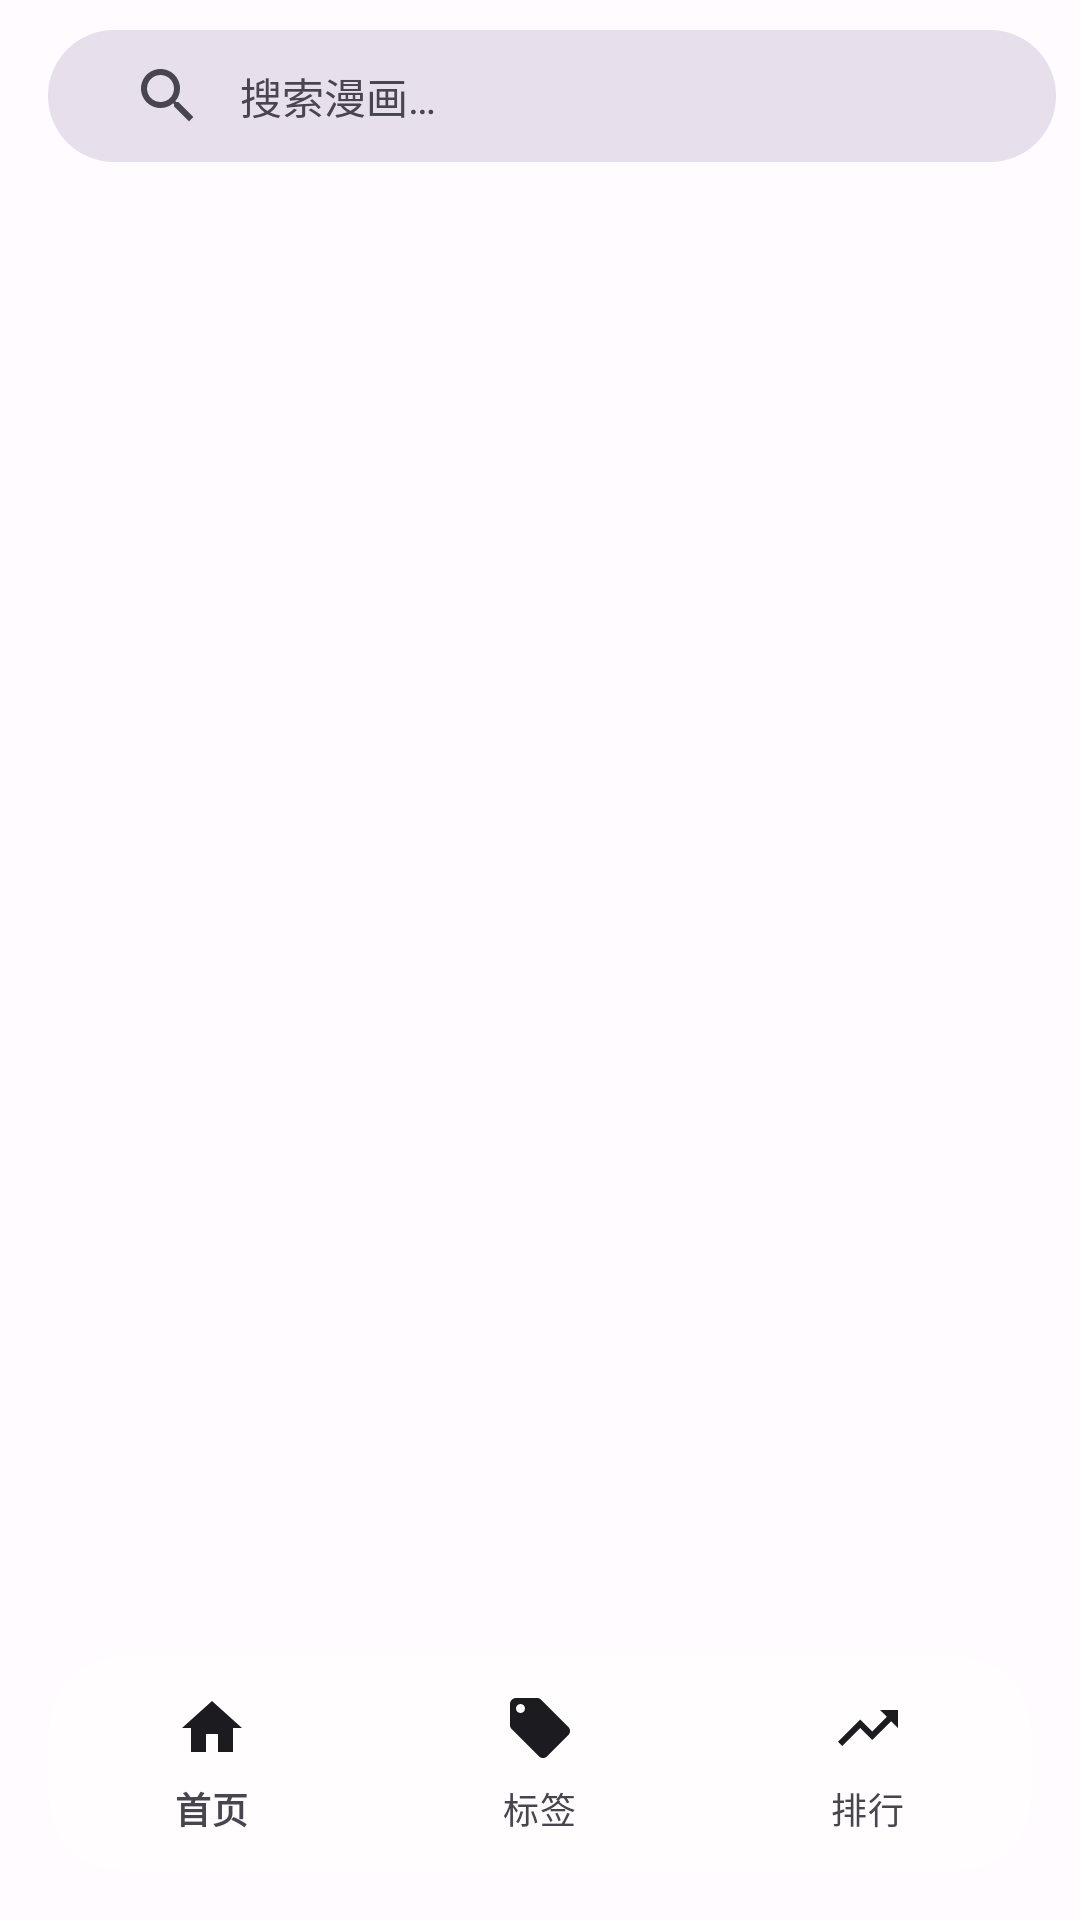

Named icons in this screenshot (1080x1920) and their bounding boxes, bbox=(x1, y1, x2, y2):
search: bbox=(141, 69, 193, 121)
